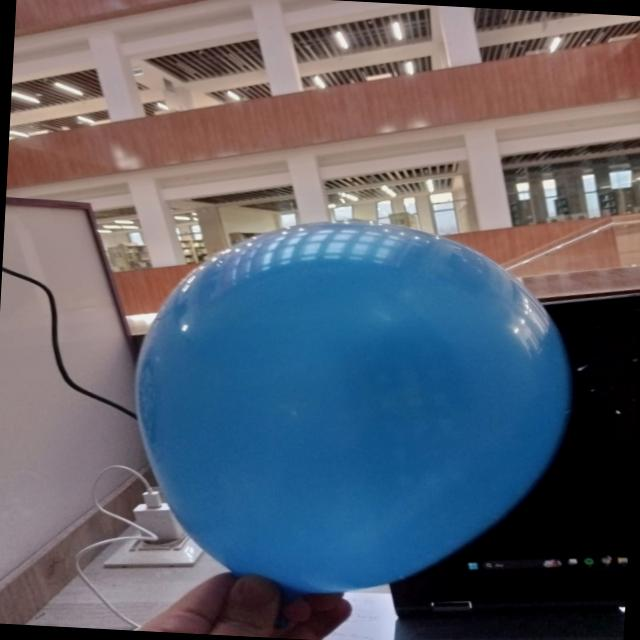balloon: (136, 222, 570, 594)
